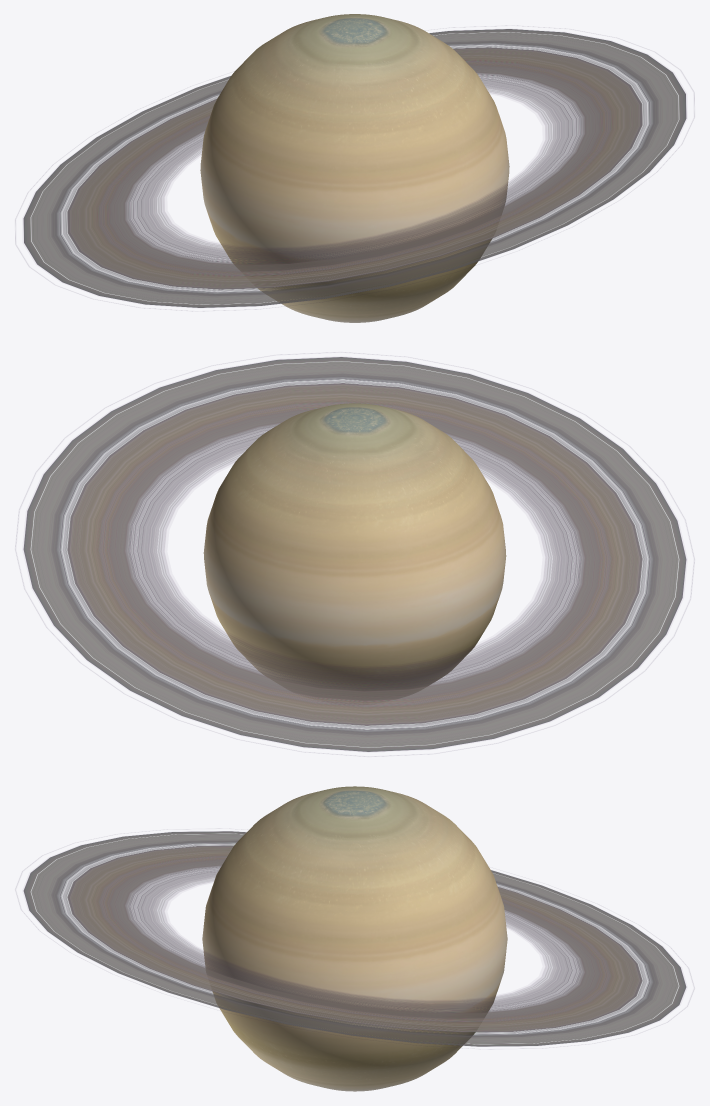
Rendered from saturn.glb.
The picture shows the model from 3 angles, top to bottom: view 1: azimuth 30°, elevation 25°; view 2: azimuth 150°, elevation 25°; view 3: azimuth 270°, elevation 25°; orthographic projection. The views are drawn at different scales.
Parts seen in each view (by area): view 1: Circle, Sphere; view 2: Circle, Sphere; view 3: Sphere, Circle.
Part boxes in pixels (x1=…): Circle: x1=23, y1=29, x2=686, y2=307; Sphere: x1=200, y1=14, x2=509, y2=322; Circle: x1=23, y1=357, x2=686, y2=751; Sphere: x1=203, y1=403, x2=506, y2=699; Sphere: x1=202, y1=786, x2=507, y2=1091; Circle: x1=23, y1=831, x2=686, y2=1046.
Size of the model in its own units: 4.47 by 2 by 4.47.
Materials: 2 (2 with a texture image).
